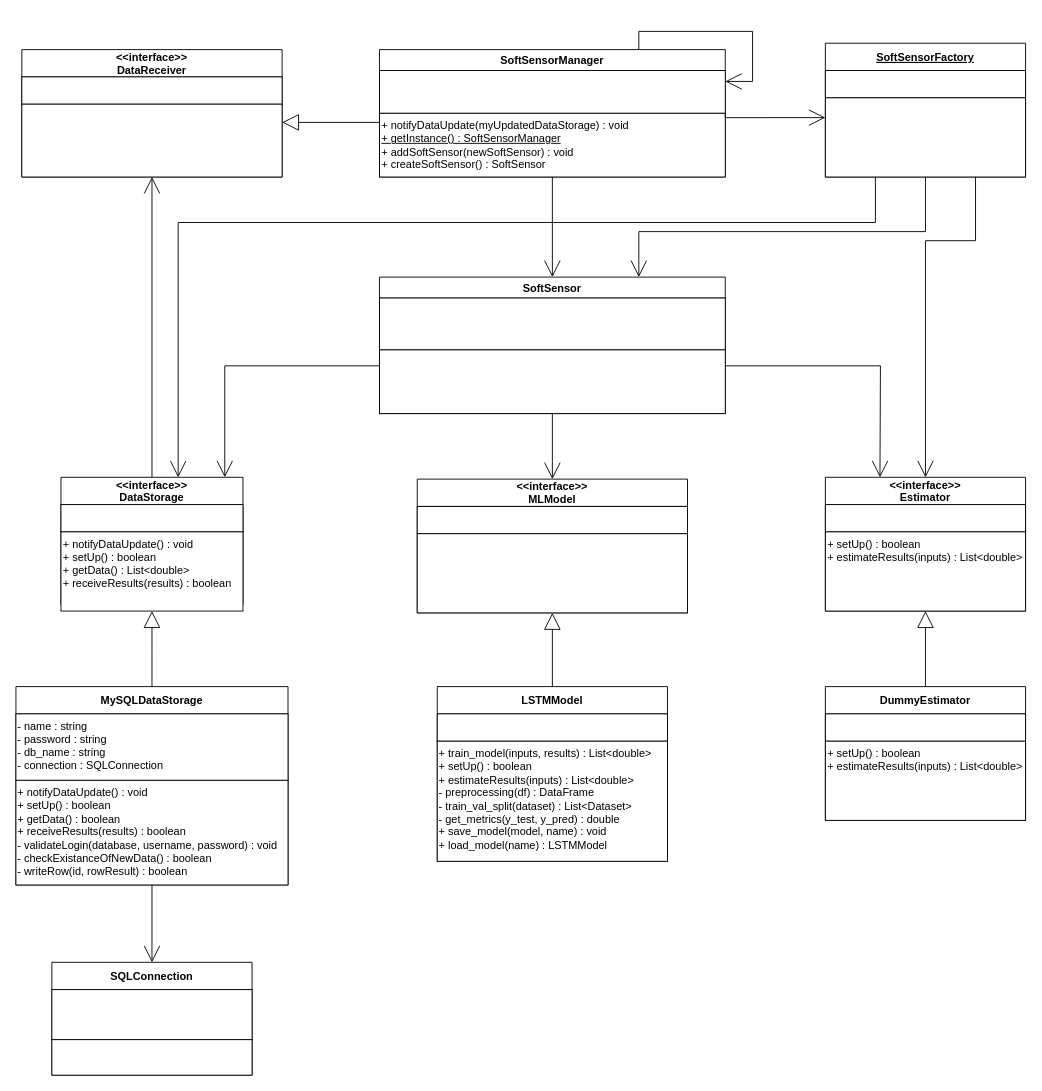
This 1042x1091 diagram has some shape labels left out. Here are the shapes that lost their labels. From the top down, the centre of each, then its label:
(x=552, y=91): - mySensors : List<SoftSensor> - instance : SoftSensorManager
(x=151, y=140): + notifyDataUpdate(myUpdatedDataStorage) : void
(x=925, y=137): + createSoftSensor() : SoftSensor
(x=552, y=323): + myDataStorage : DataStorage + myEstimator : Estimator + myMLModel : MLModel
(x=552, y=381): + runSoftSensor() : boolean - trainMLModel(inputs, results) : List<double>
(x=151, y=518): # myObserver : DataReceiver
(x=552, y=573): + train_model(inputs, results) : List<double> + setUp() : boolean
(x=151, y=1014): - name : string - password : string - db_name : string
(x=151, y=1057): + sql_connection() : List<string>
